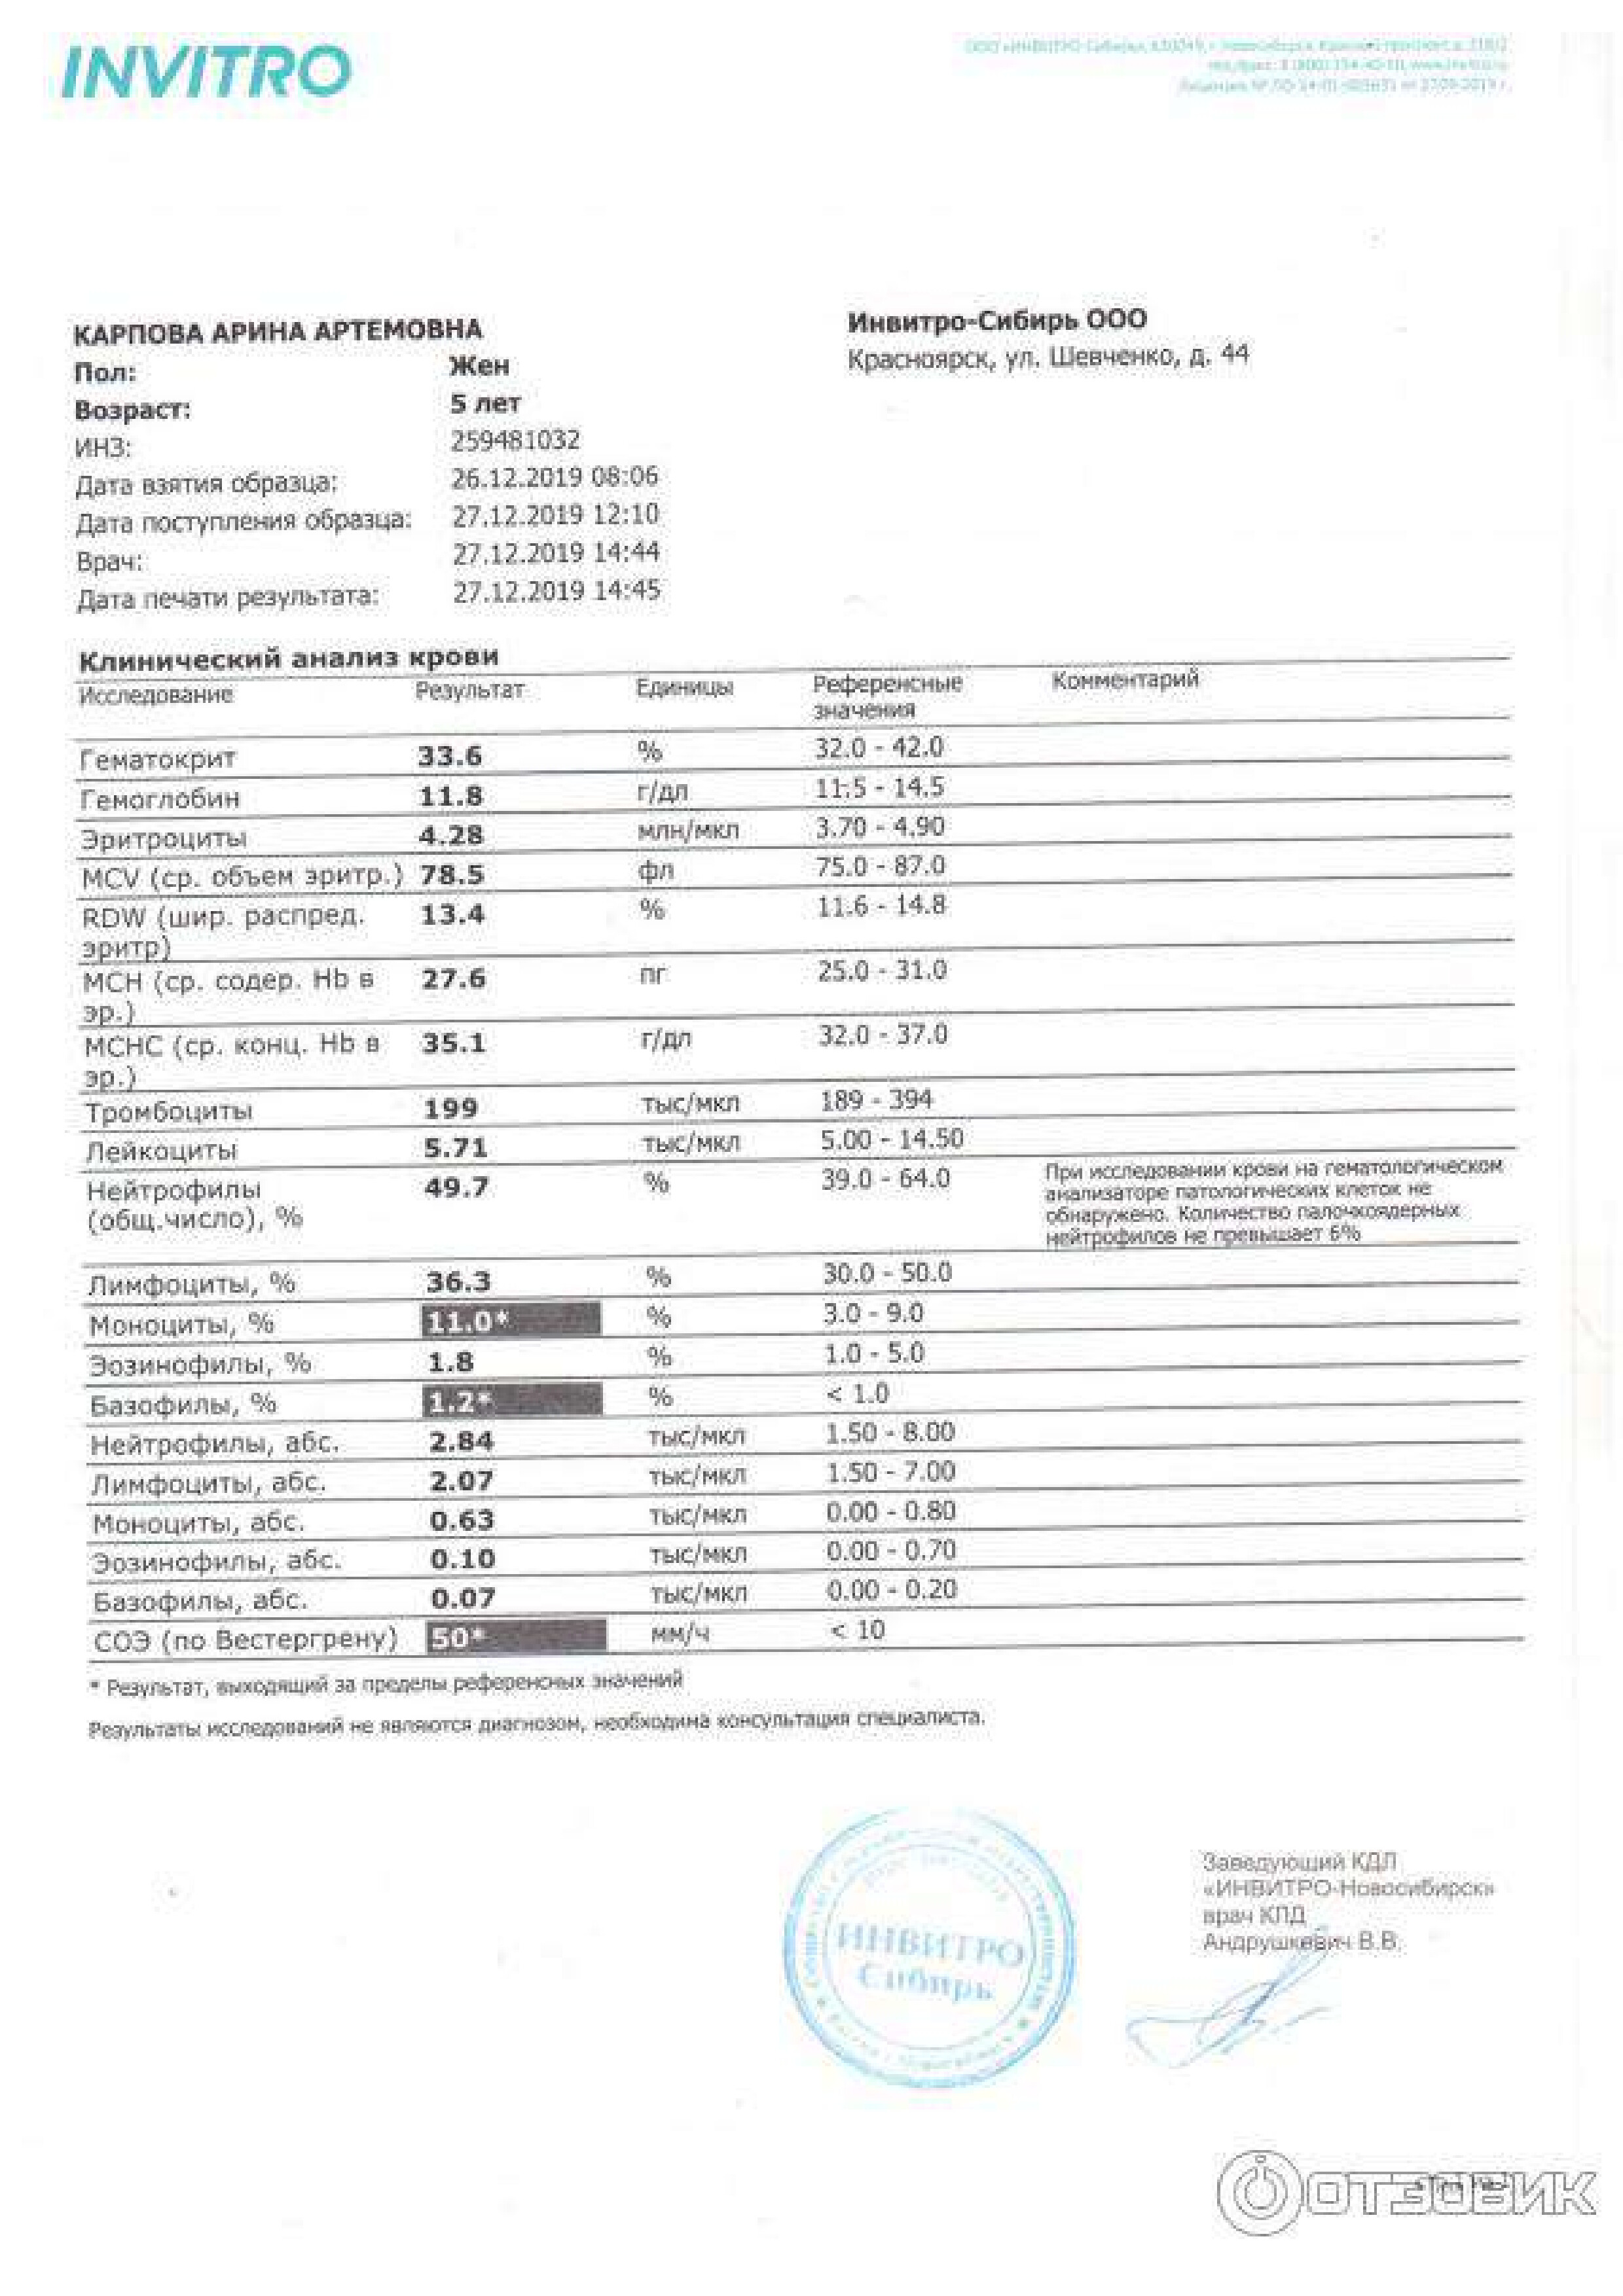column: (1042, 665, 1505, 1657), (77, 665, 404, 1657), (813, 665, 964, 1657), (415, 665, 527, 1657), (636, 665, 748, 1657)
